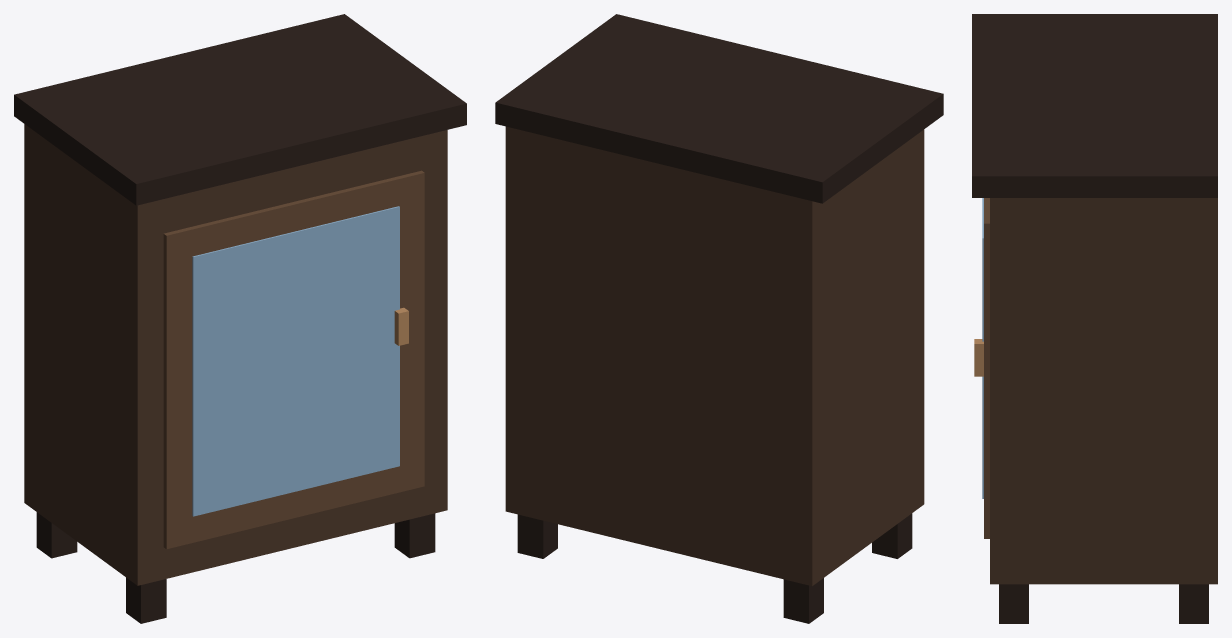
File: cabinet_small.glb
3 renders of one model, left to right at view 1: azimuth 30°, elevation 25°; view 2: azimuth 150°, elevation 25°; view 3: azimuth 270°, elevation 25°, orthographic.
Parts seen in each view (by area): view 1: cabinet_small; view 2: cabinet_small; view 3: cabinet_small.
Boxes of the visible parts, x1,y1,x2,y2 form: cabinet_small: [14, 14, 466, 623]; cabinet_small: [495, 14, 943, 623]; cabinet_small: [972, 14, 1217, 623].
Bounding box in the file's own units: 0.64 × 0.84 × 0.41.
